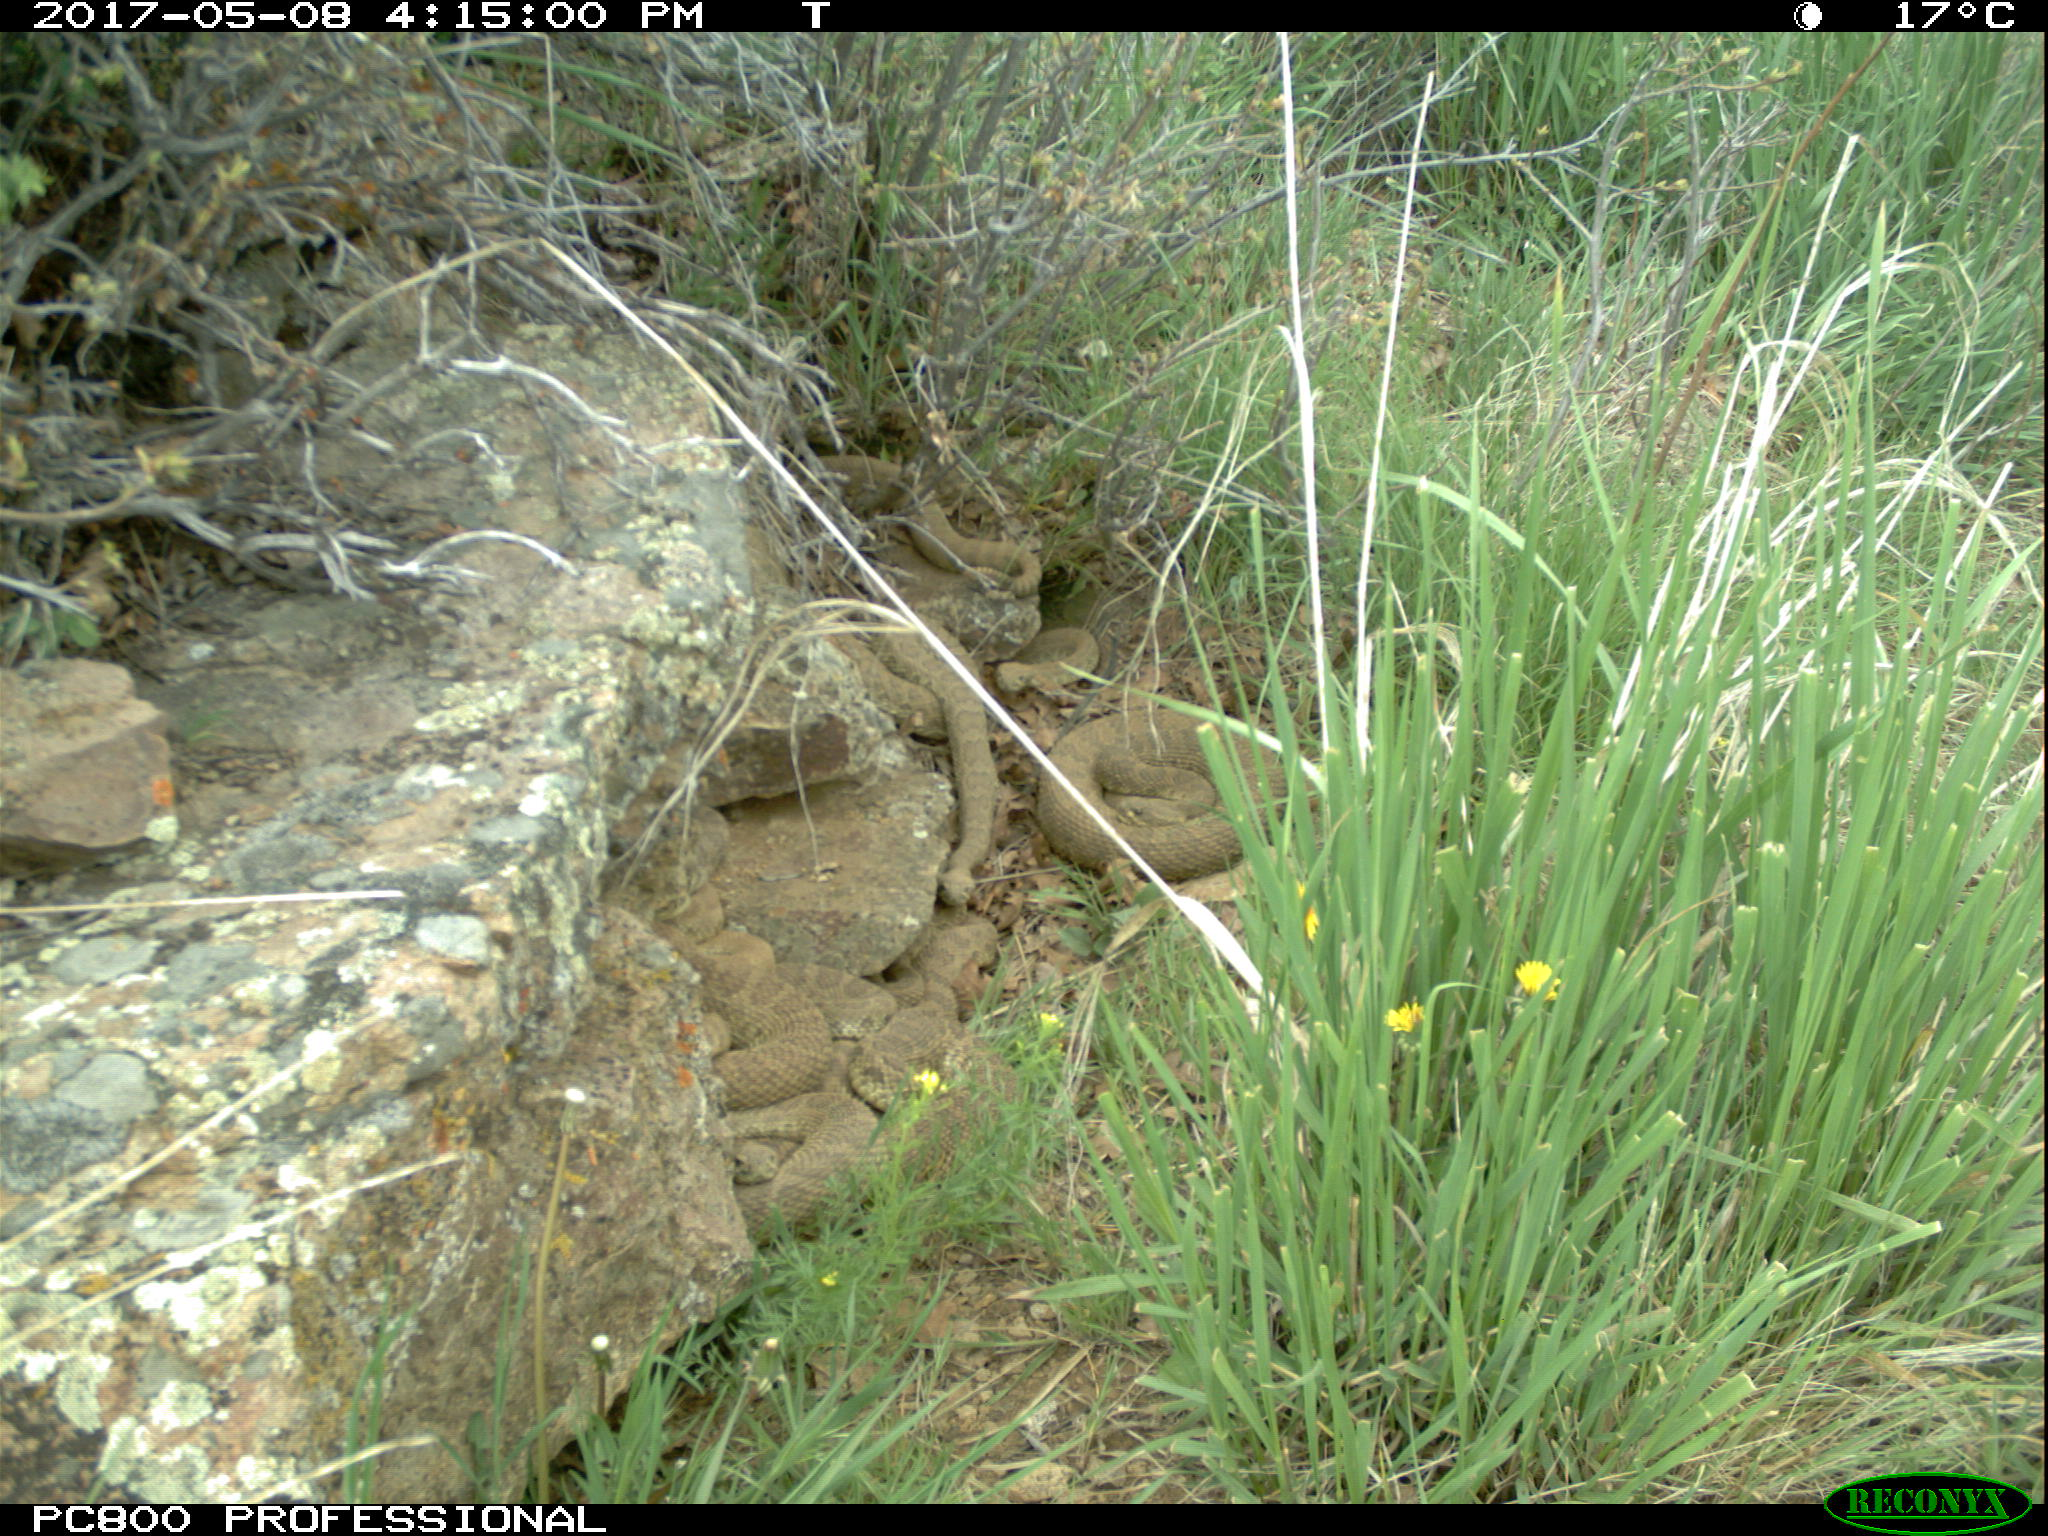snake: (1034, 708, 1285, 889), (679, 900, 897, 1083), (879, 615, 997, 904), (839, 476, 1048, 607), (721, 1081, 884, 1234), (856, 1013, 1026, 1154), (903, 912, 997, 1025), (998, 620, 1113, 705)
